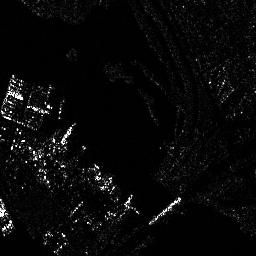ship: (148, 195, 182, 226)
